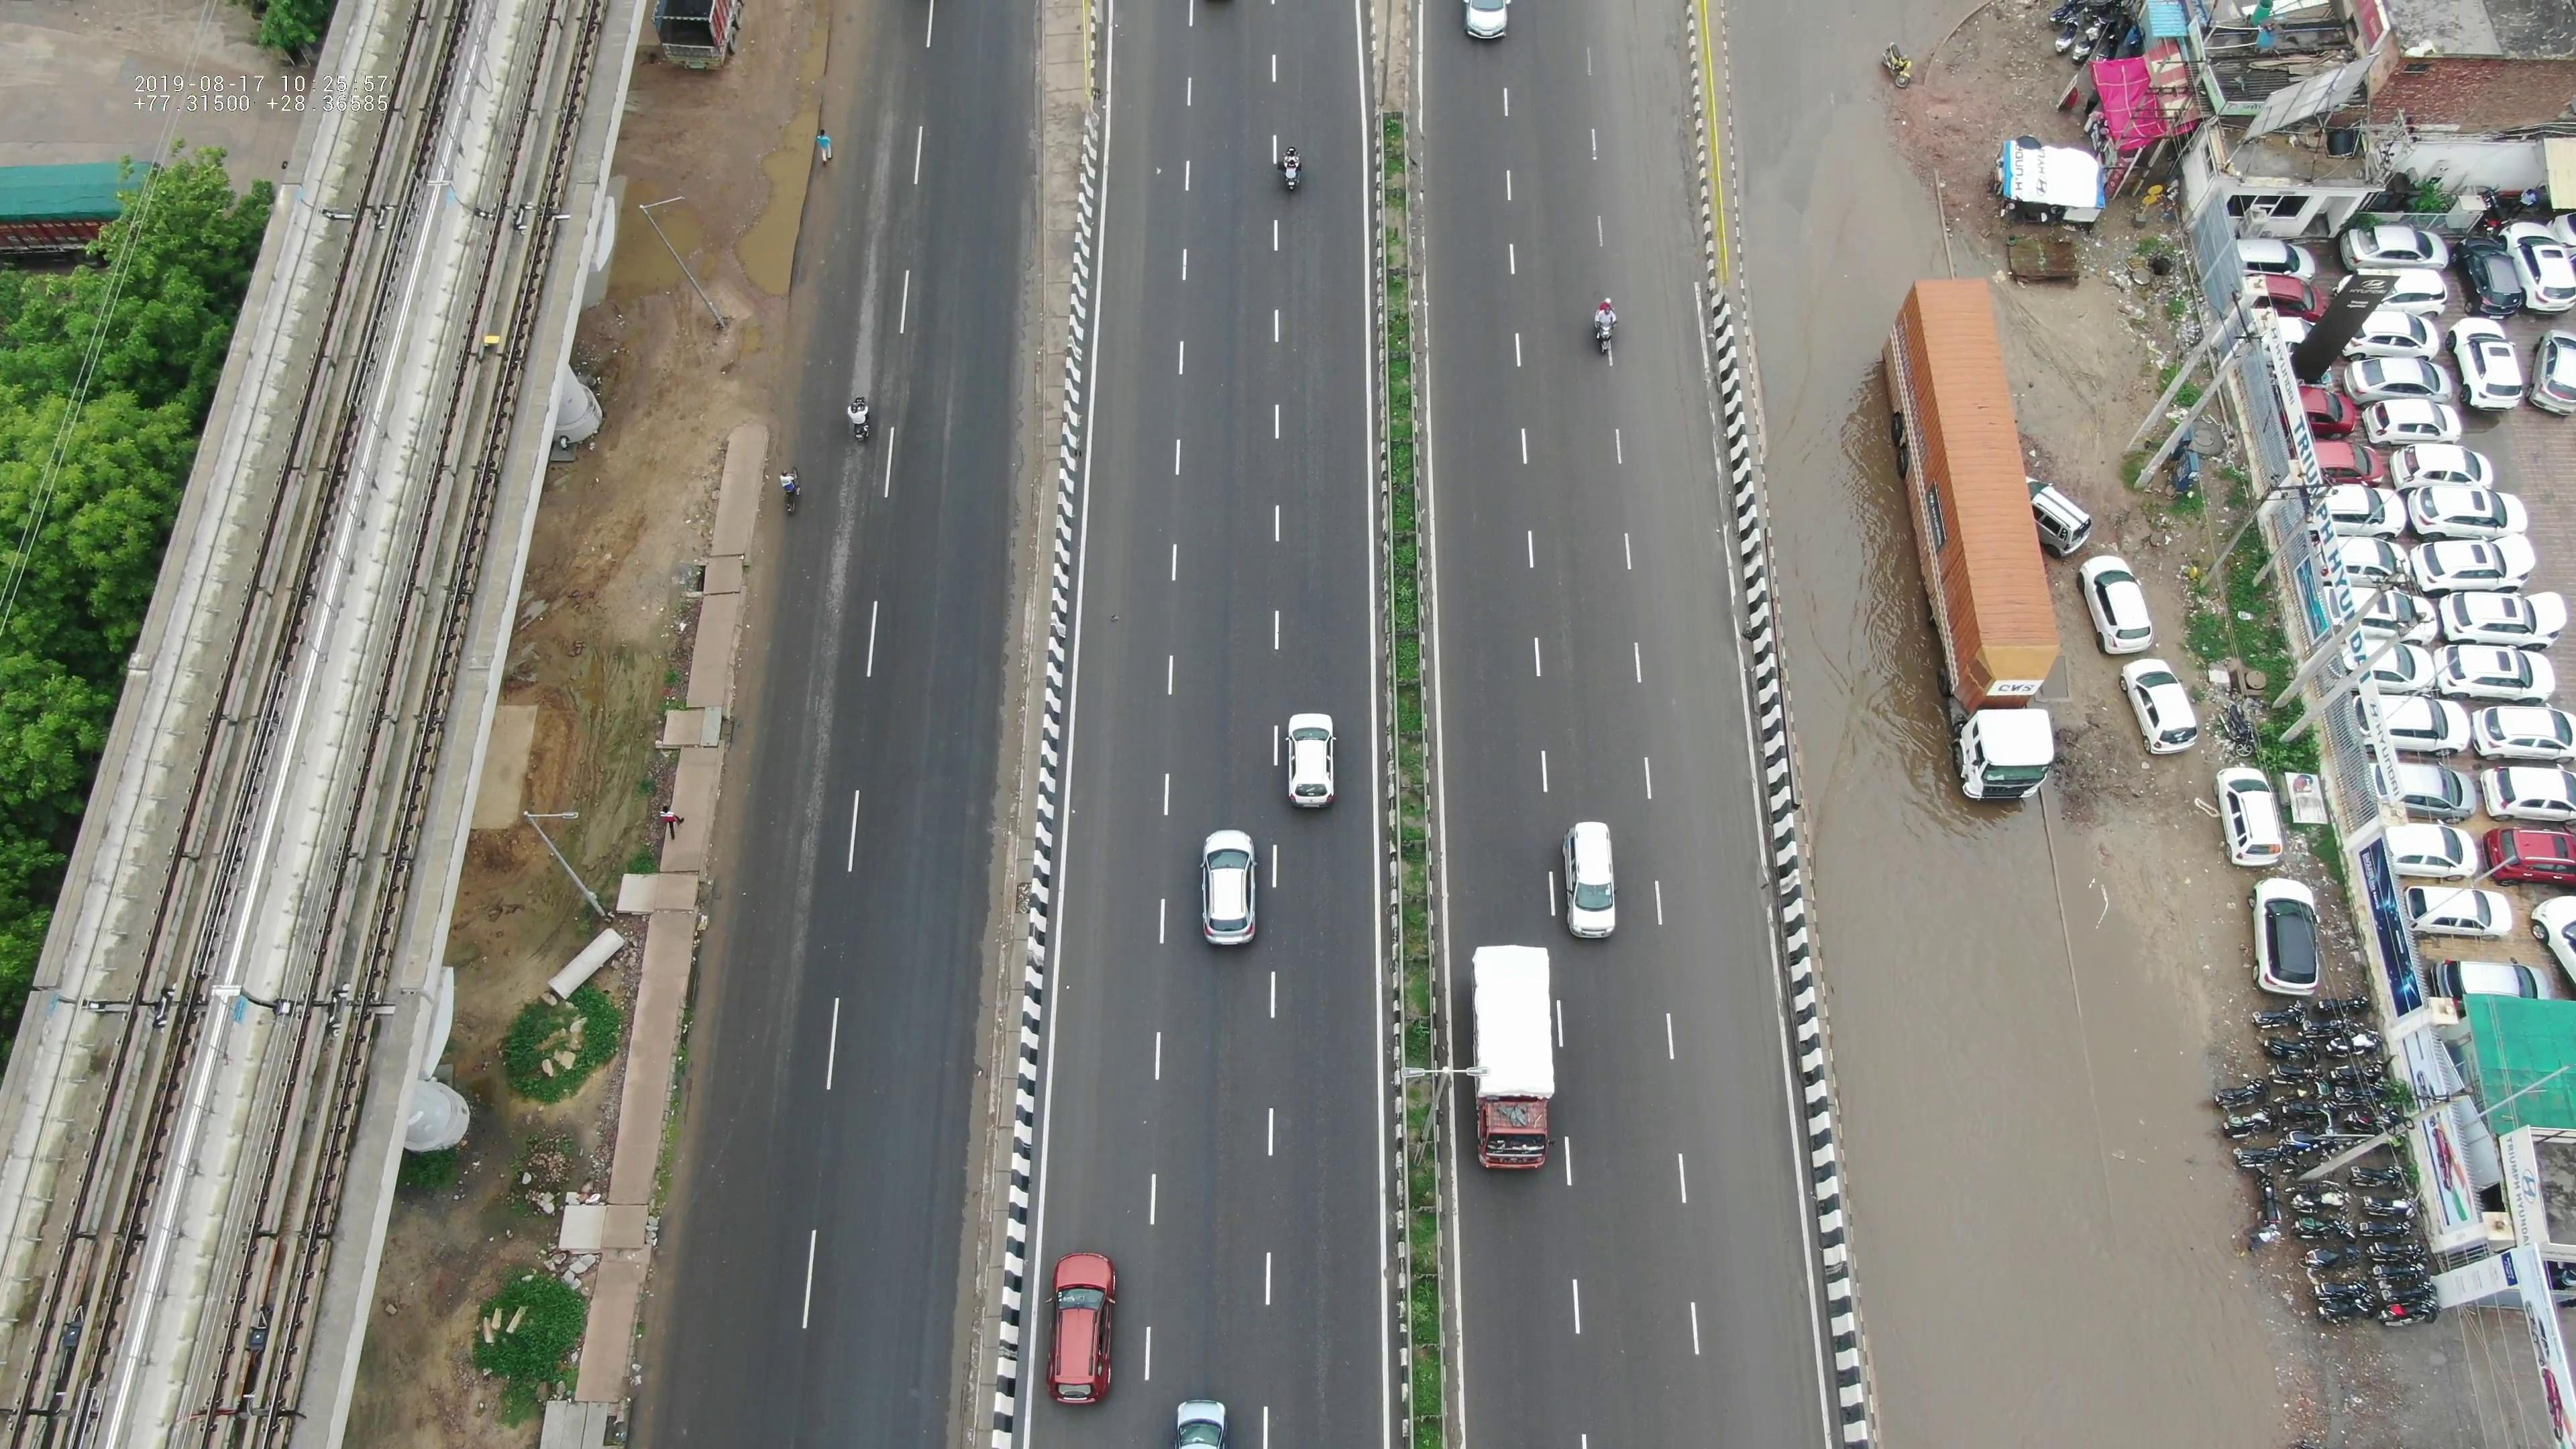Waterlogging: (1821, 1010, 2321, 1428), (1767, 600, 2112, 1001), (1727, 81, 1994, 589), (736, 34, 835, 308)
